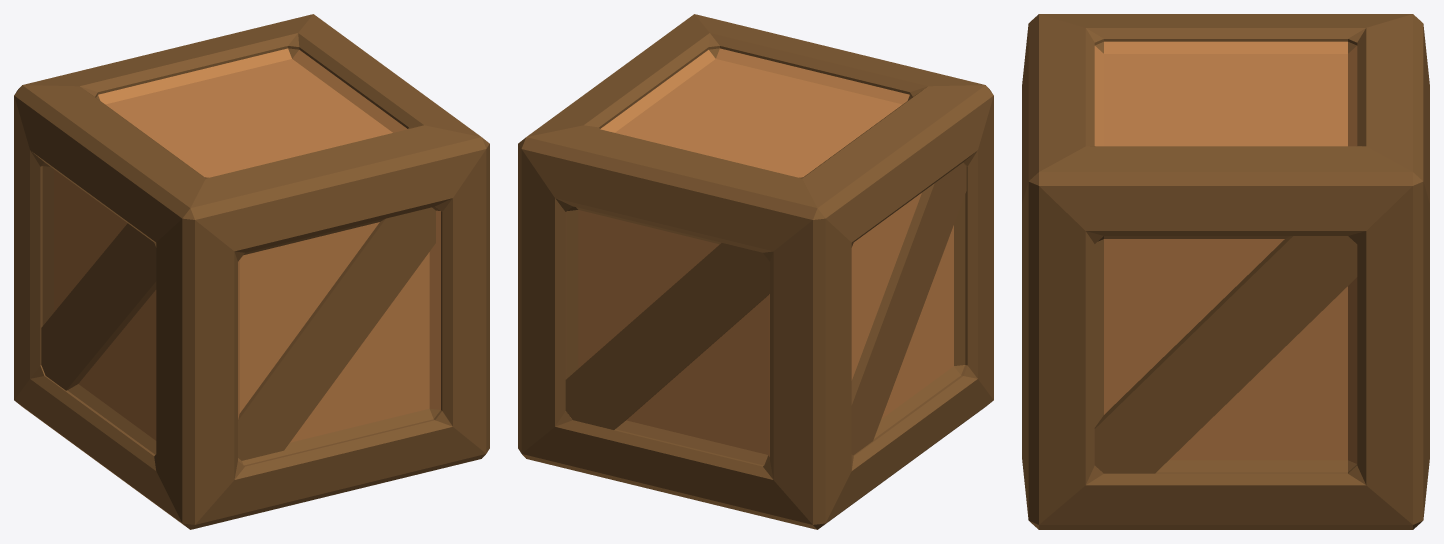
Rendered from Crate.glb.
The picture shows the model from 3 angles, left to right: view 1: azimuth 30°, elevation 25°; view 2: azimuth 150°, elevation 25°; view 3: azimuth 270°, elevation 25°; orthographic projection. The views are drawn at different scales.
Parts seen in each view (by area): view 1: Cube, Cube.003; view 2: Cube, Cube.003; view 3: Cube, Cube.003.
Boxes of the visible parts, left/top/right/bottom form: Cube: left=14, top=14, right=489, bottom=529; Cube.003: left=41, top=207, right=435, bottom=460; Cube: left=518, top=14, right=993, bottom=529; Cube.003: left=565, top=163, right=966, bottom=455; Cube: left=1022, top=14, right=1429, bottom=529; Cube.003: left=1094, top=236, right=1357, bottom=473.
Bounding box in the file's own units: 3.83 × 3.83 × 3.83.
